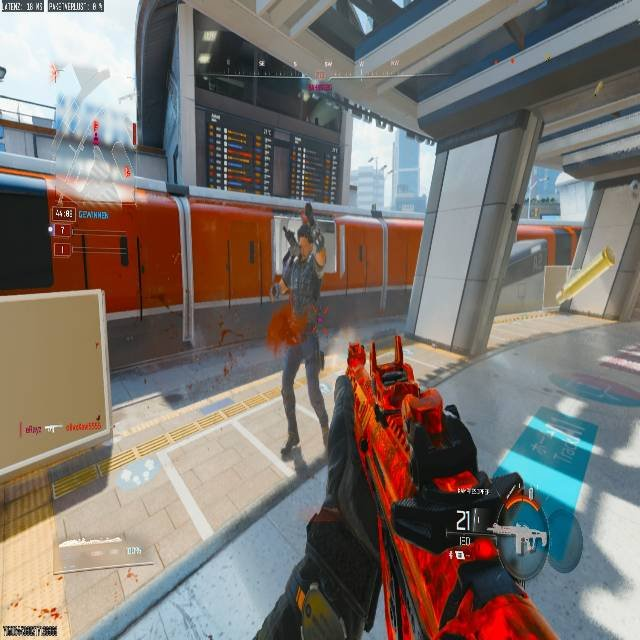head: (298, 203, 315, 226)
player: (268, 203, 333, 469)
